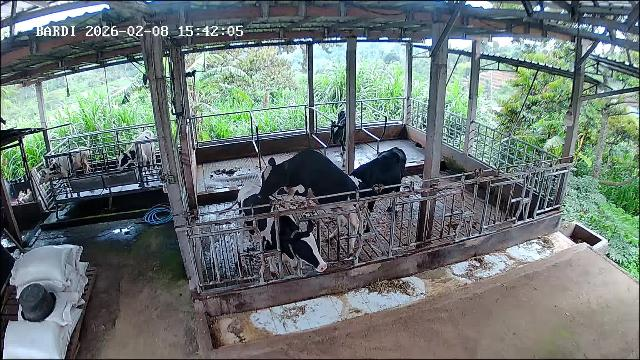mounting: (262, 147, 362, 258)
